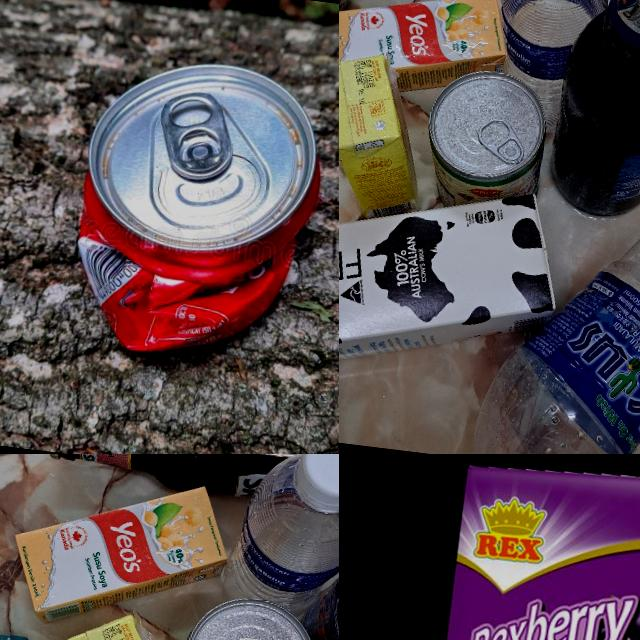aba de lata: (154, 86, 238, 186), (474, 114, 526, 166)
caixinha: (339, 157, 568, 414), (406, 454, 640, 640), (9, 464, 238, 628), (339, 0, 515, 104), (339, 48, 436, 223)
garrafa de vidro: (543, 0, 640, 225), (41, 454, 339, 506), (301, 515, 339, 640)
garrafa plástica: (464, 108, 640, 454), (229, 454, 339, 635), (489, 0, 616, 138)
lata: (63, 49, 334, 371), (418, 64, 552, 216), (180, 594, 319, 640)
tampa plástica: (299, 454, 339, 513)
